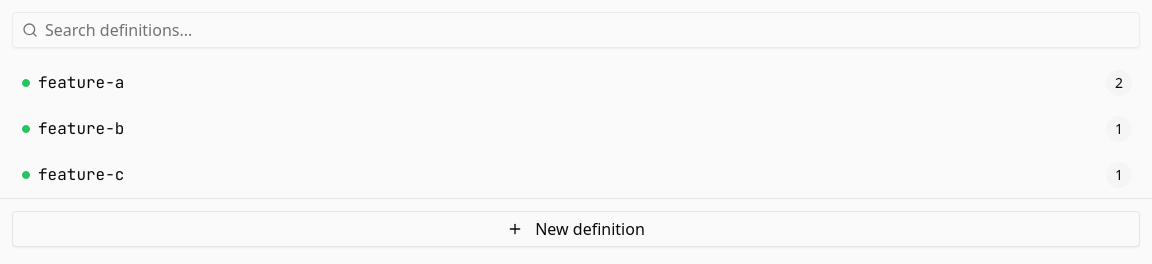
Scenario: DefinitionList › should filter definitions by search
The width and height of the screenshot is (1152, 264).
Type "feature-b" into the field with placeholder "Search definitions...".
click(576, 30); type("feature-b")  # box left=12, top=12, right=1140, bottom=48
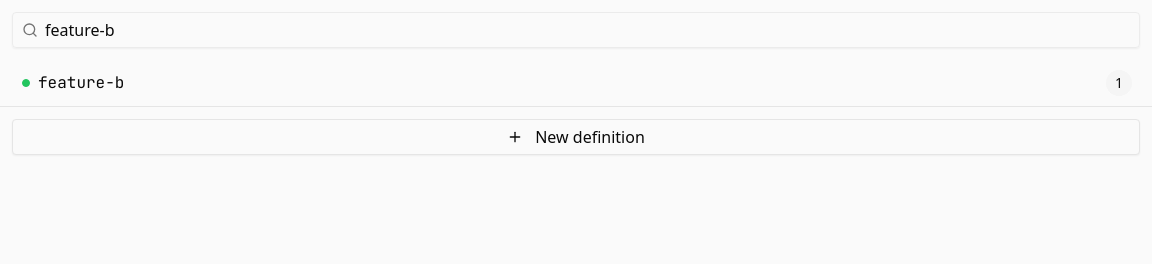
Expected: the text "feature-b" is shown, left=38, top=72, right=124, bottom=93
Result: the text "feature-a" is gone
